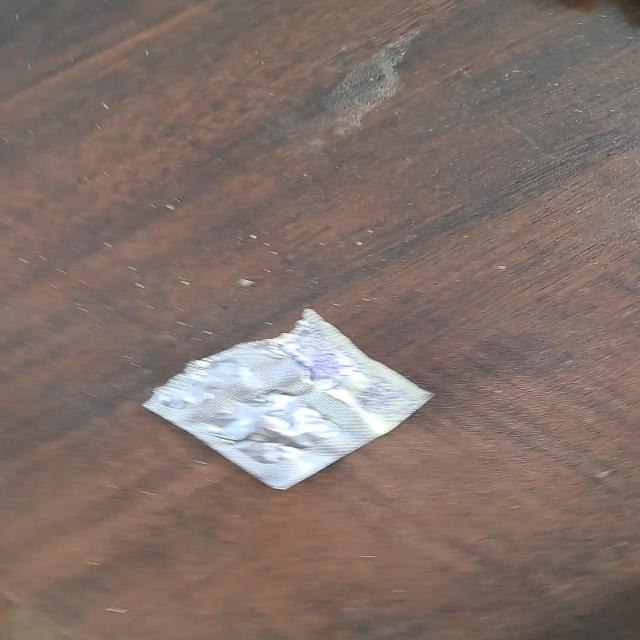Anorganik: (128, 302, 444, 496)
